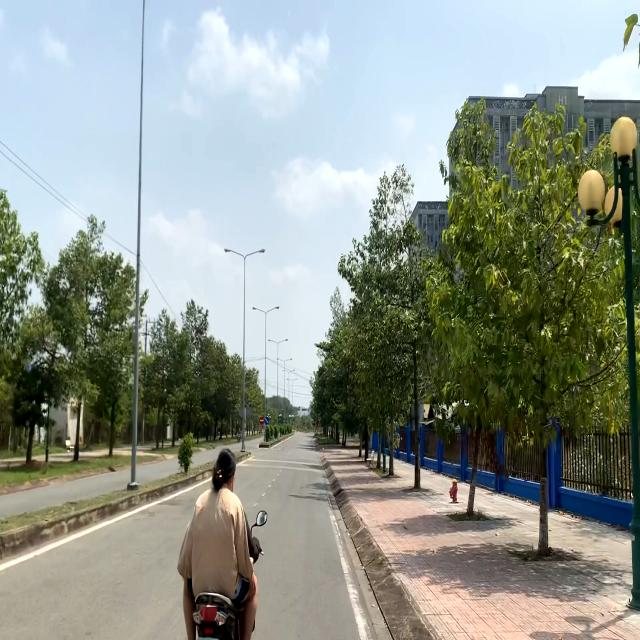P.102: (259, 416, 264, 424)
R.302a: (264, 416, 269, 424)
